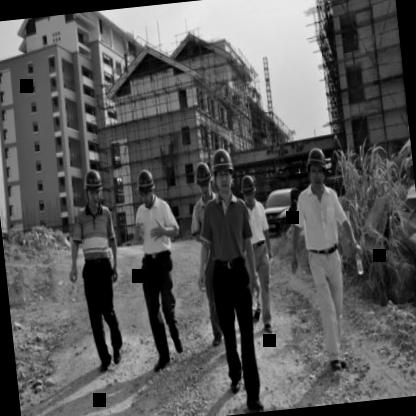helmet: (207, 144, 238, 197), (302, 145, 328, 193), (80, 167, 104, 210), (134, 166, 158, 206), (192, 158, 214, 199), (238, 170, 258, 208)
